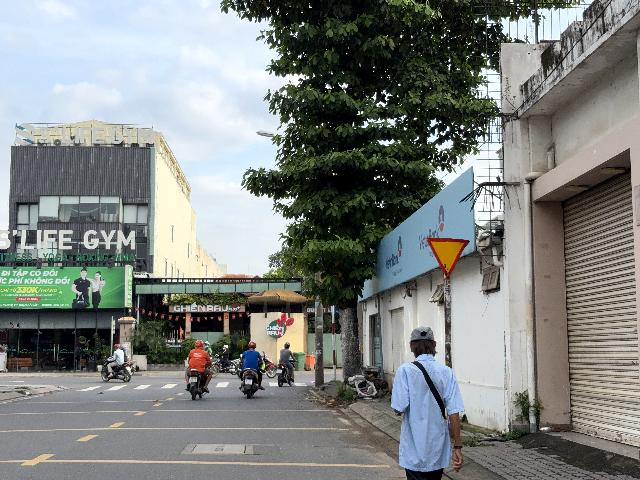giao-nhau-voi-duong-uu-tien: (426, 237, 470, 278)
